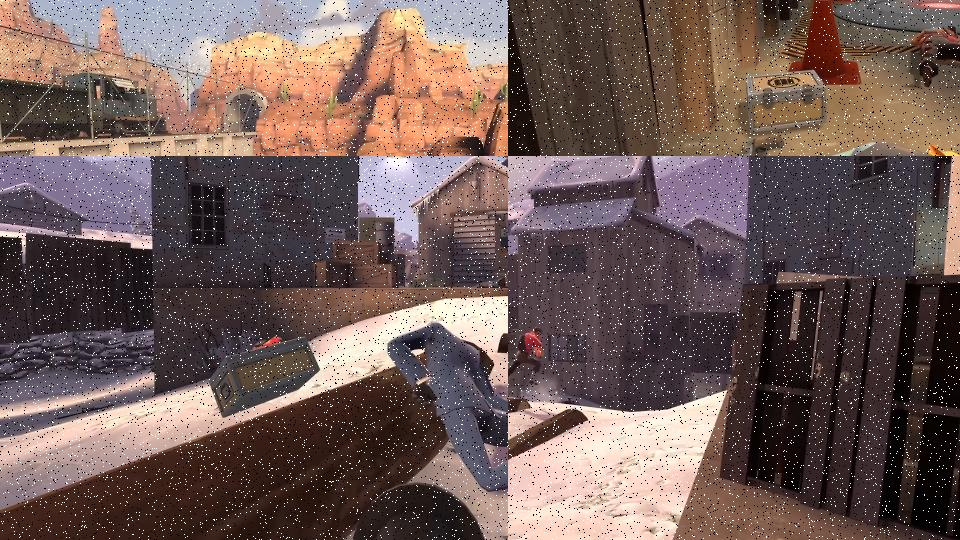Enemy: (387, 322, 508, 512), (913, 22, 960, 87), (508, 325, 545, 394), (478, 270, 508, 288)
